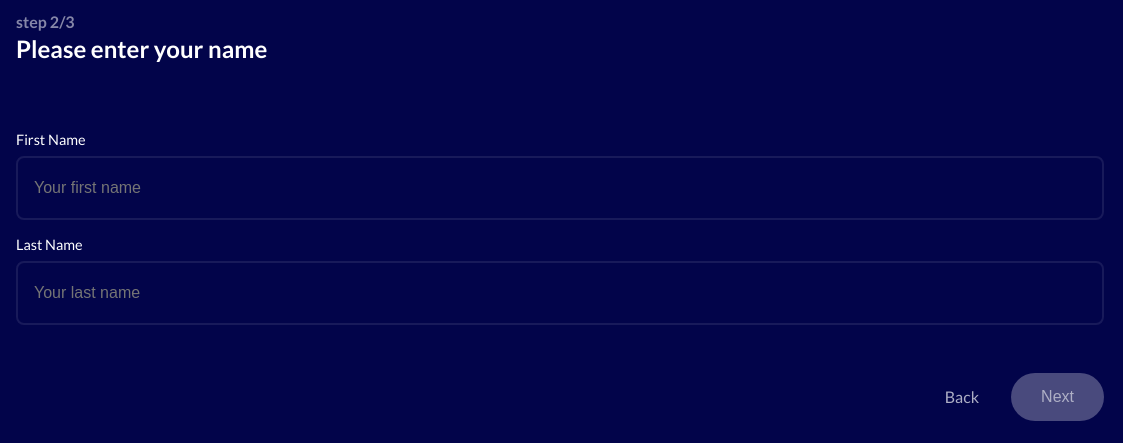
component StepDriverOne › should not sumbit when lastName is empty
Type "first name" into the field labelled "First Name" at (560,188), box [16,156,1104,220]
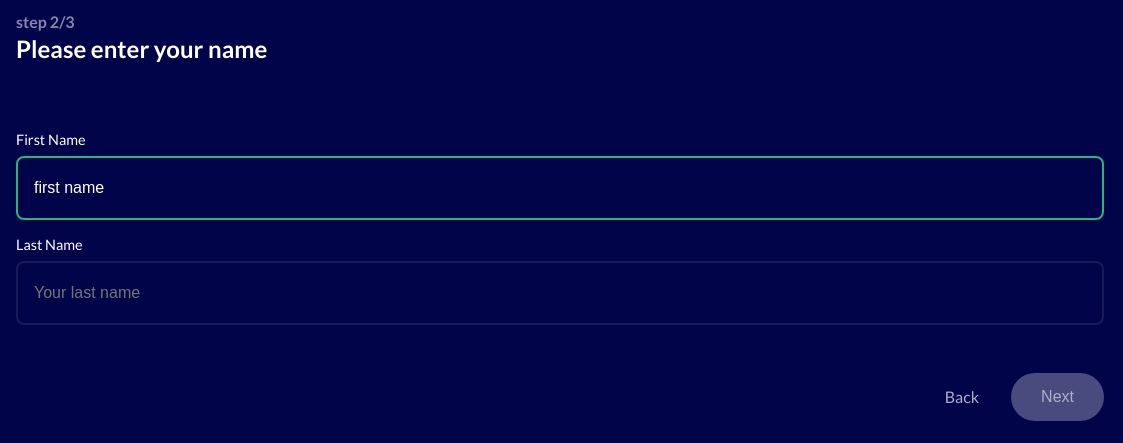
Click the button "Next" at (1058,397), box [1011,373,1104,421]
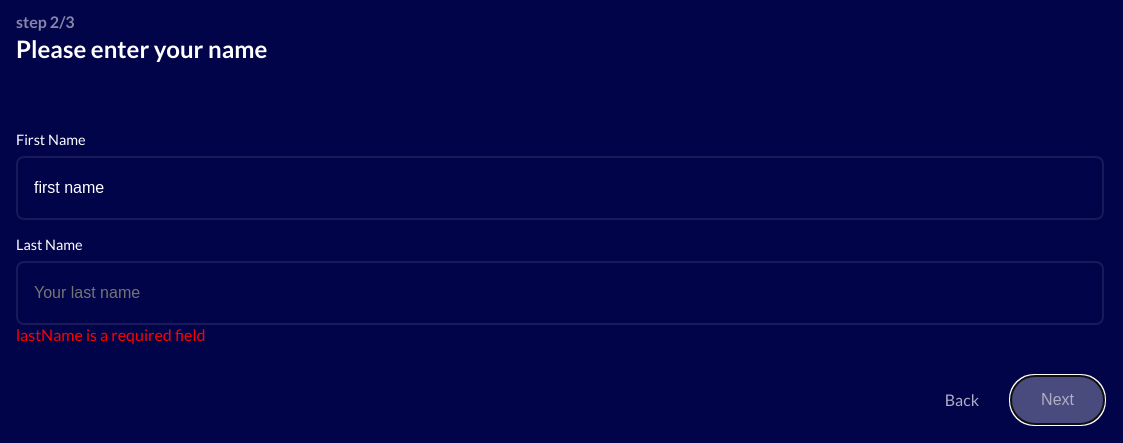
Expected: the text "lastName is a required field" is shown, [16,325,206,344]
